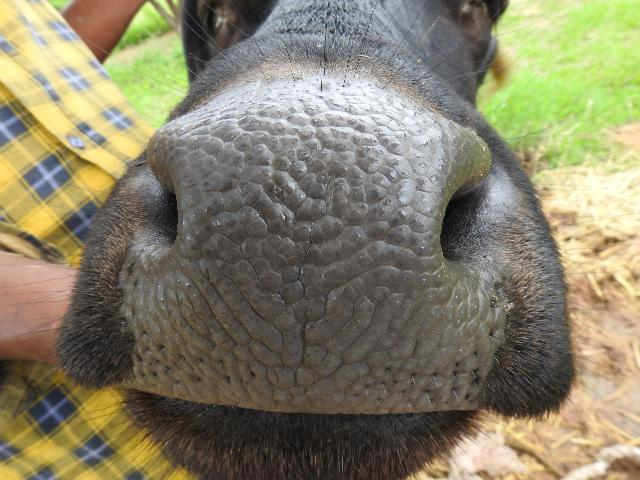Muzzle: (165, 124, 457, 404)
